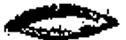Mouth: (3, 1, 124, 40)
